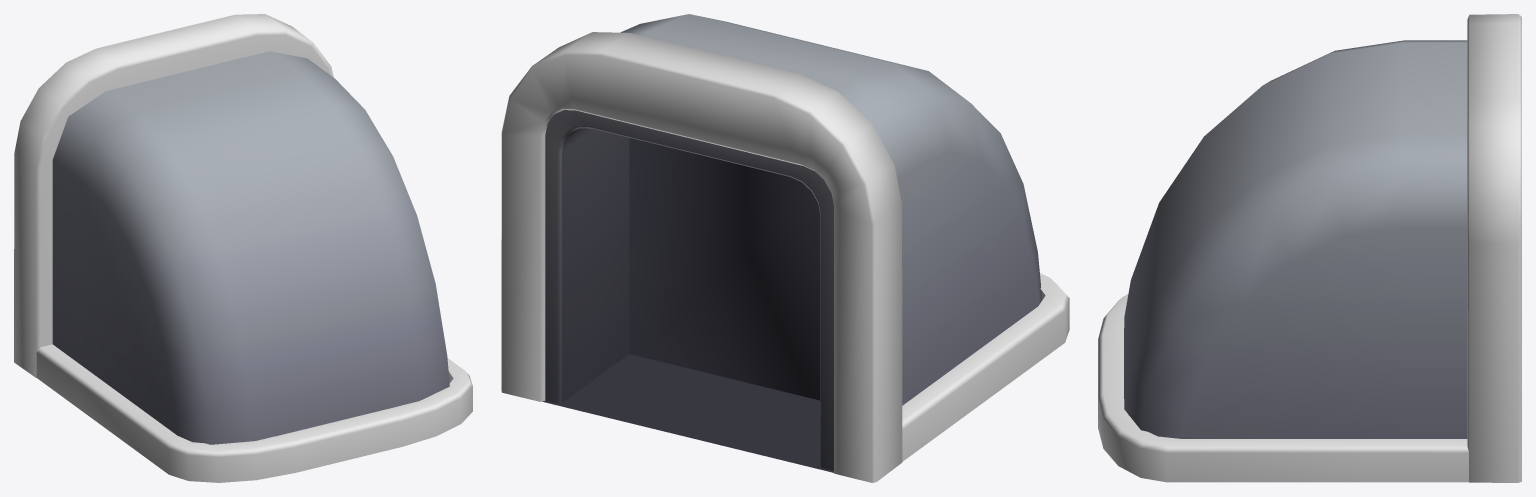
Rendered from Tunnel.fbx.
The picture shows the model from 3 angles, left to right: view 1: azimuth 30°, elevation 25°; view 2: azimuth 150°, elevation 25°; view 3: azimuth 270°, elevation 25°; orthographic projection. The views are drawn at different scales.
Parts seen in each view (by area): view 1: Tunnel; view 2: Tunnel; view 3: Tunnel.
Boxes of the visible parts, box(x1,y1,x2,y2) form: Tunnel: box(14, 14, 472, 482); Tunnel: box(501, 14, 1069, 482); Tunnel: box(1098, 14, 1521, 482).
Bounding box in the file's own units: 85.98 × 79.75 × 91.01.
